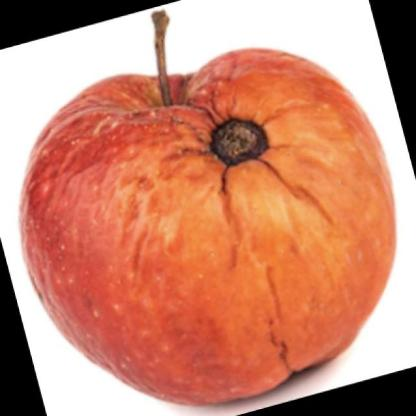defect: (177, 85, 321, 368)
